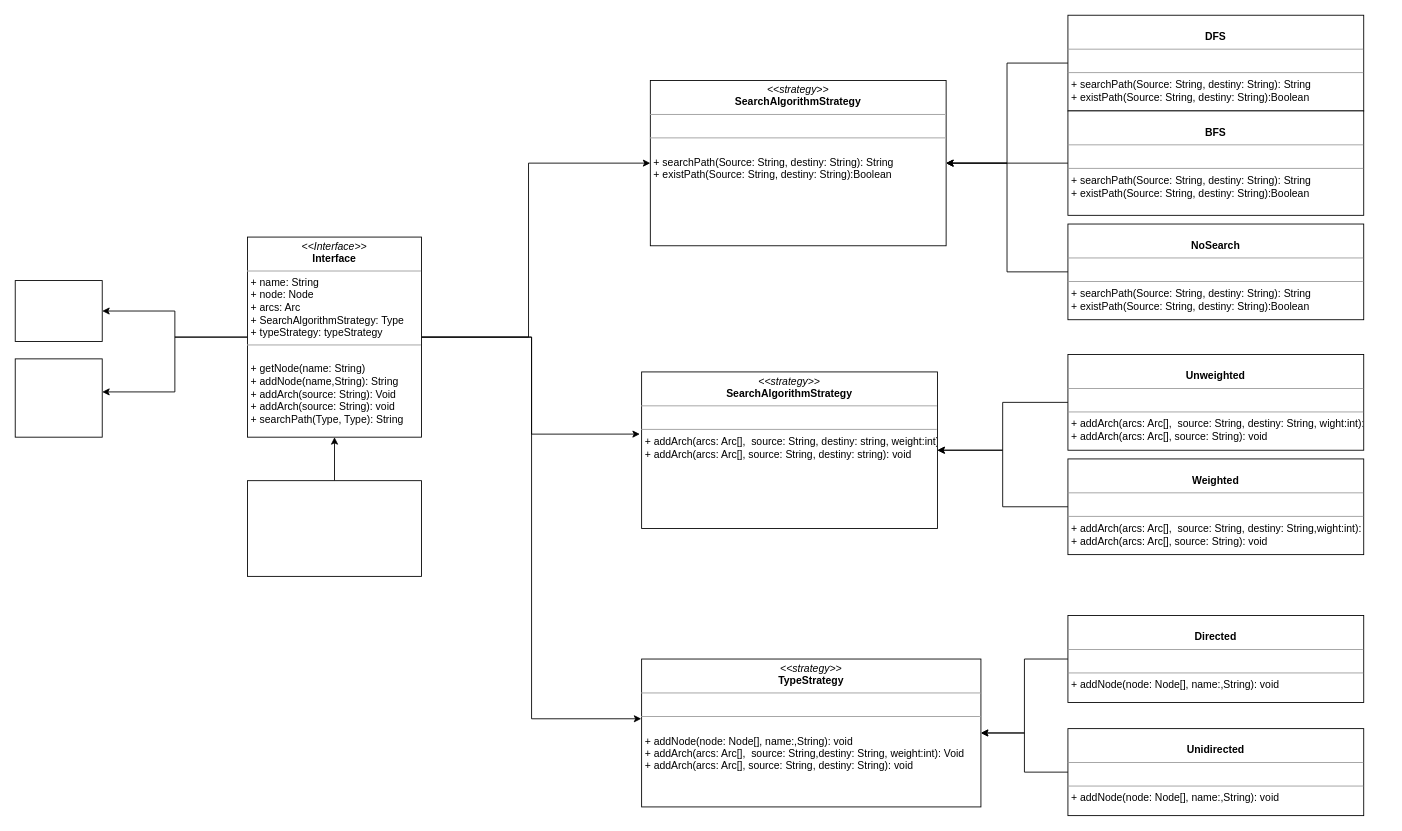
The diagram is 1402 pixels wide and 831 high, and some of its shapes have lost their labels. Each missing label, with the centre of its shape:
<<factory>> GrahpFactory + getGraph(): Graph: point 334,528
Arch source: Node destiny: Node weight: integer: point 58,397
Node name: String: point 58,310
